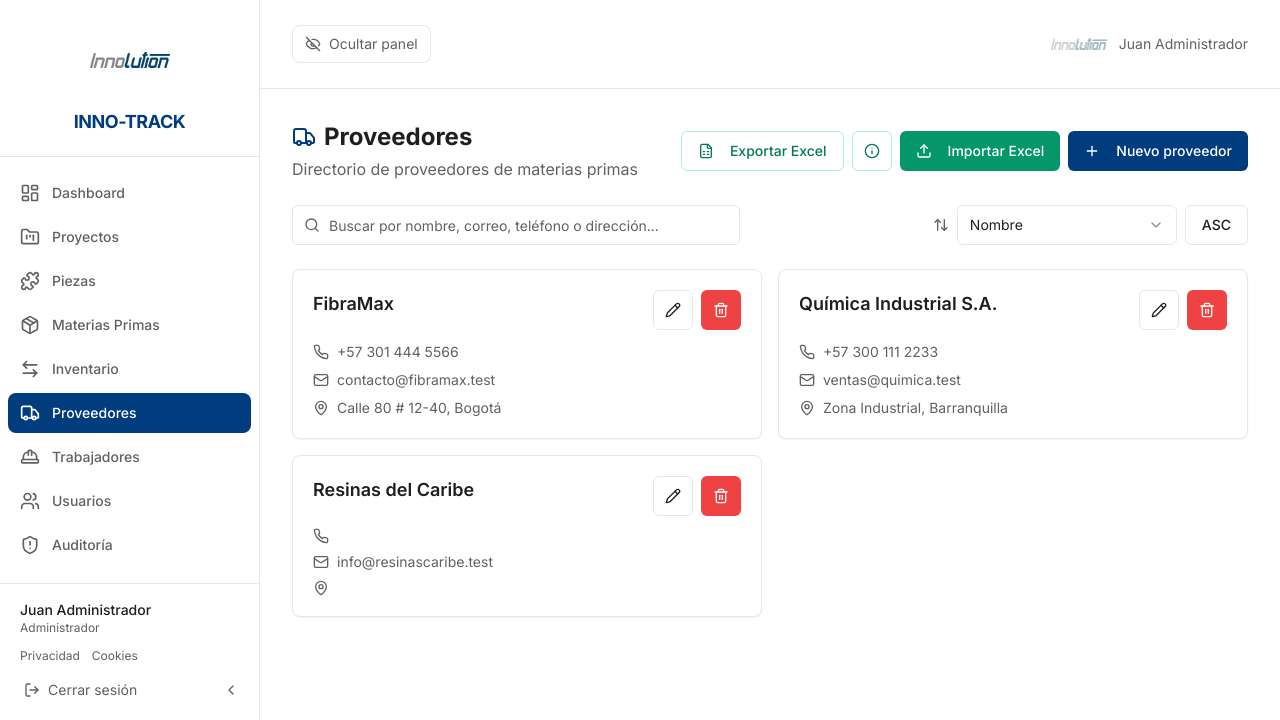
Test: Proveedores › filtra por cualquier dato de contacto y ordena
In the field with placeholder "Buscar por nombre, correo, teléfono o dirección...": [516, 225] box [292,205,740,245], type "bogotá"
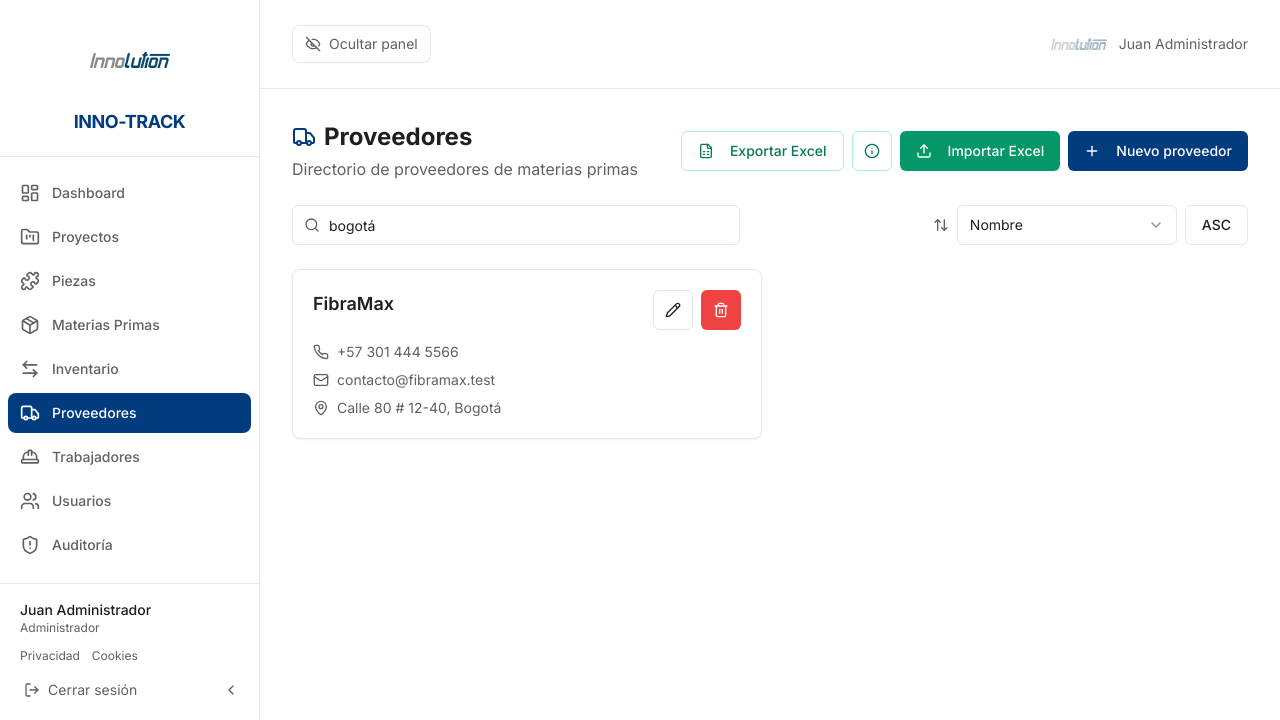
Replace the text in the field with placeholder "Buscar por nombre, correo, teléfono o dirección..." with "no existe": [516, 225] box [292,205,740,245]
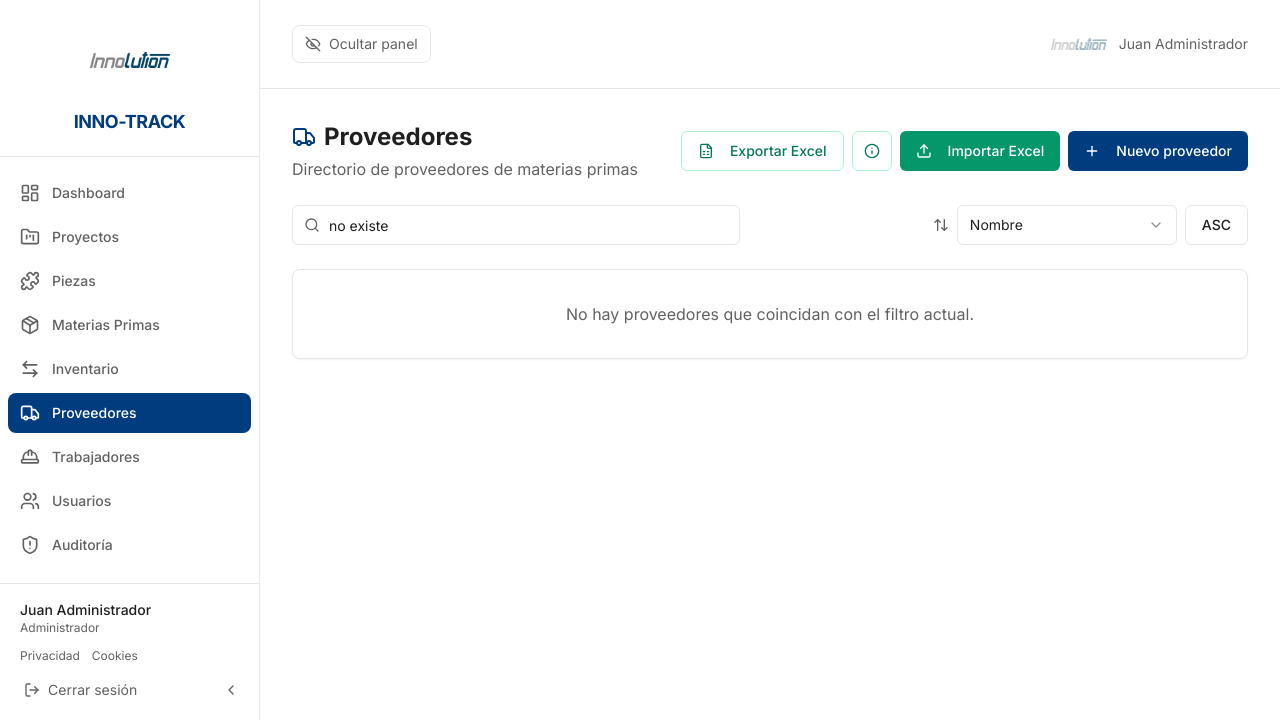
Expected: the text "No hay proveedores que coincidan con el filtro actual." is shown, [566,304,974,324]
Clear the field with placeholder "Buscar por nombre, correo, teléfono o dirección...": [516, 225] box [292,205,740,245]
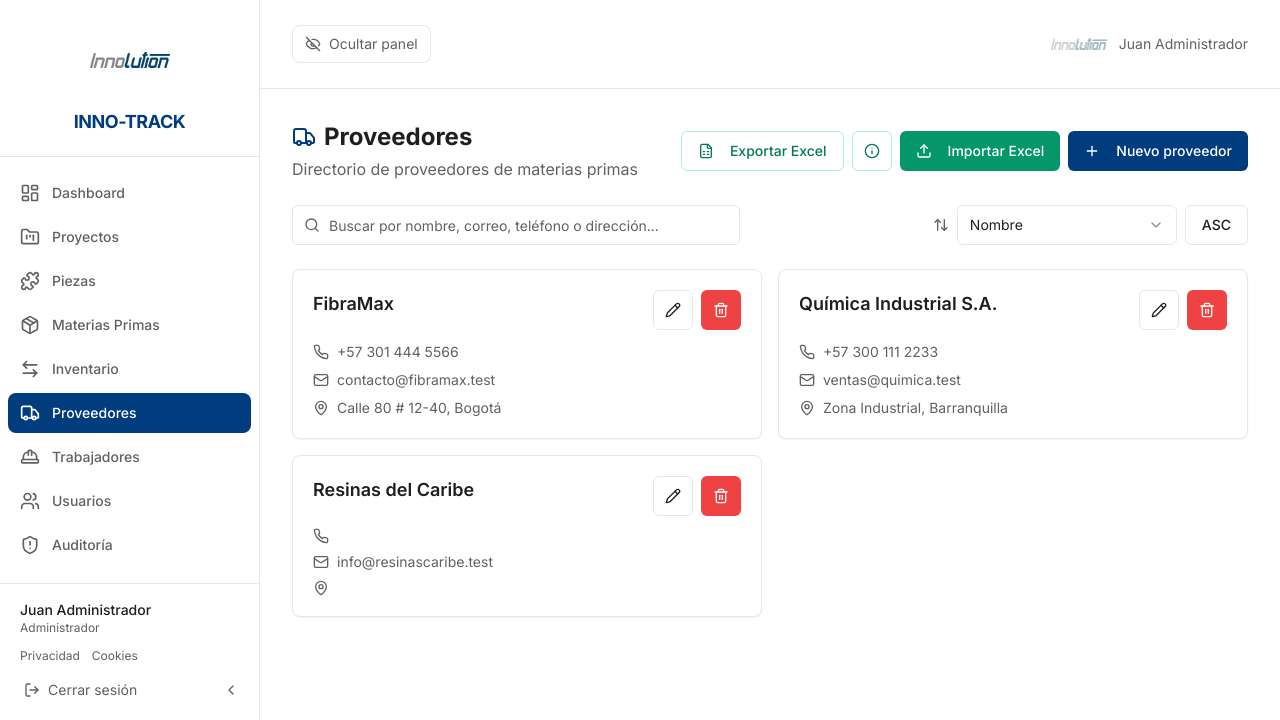
Click the button "ASC": [1216, 225] box [1185,205,1248,245]
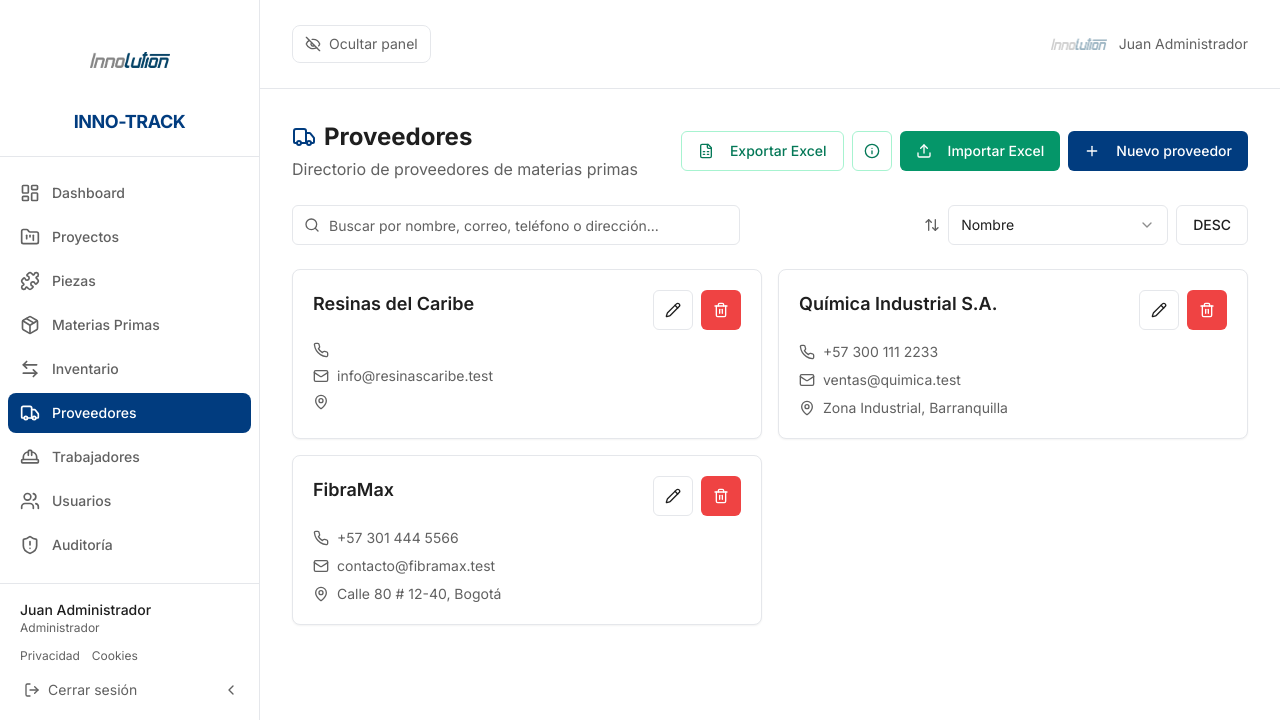
Press Enter in the dropdown, box [948,205,1168,245]
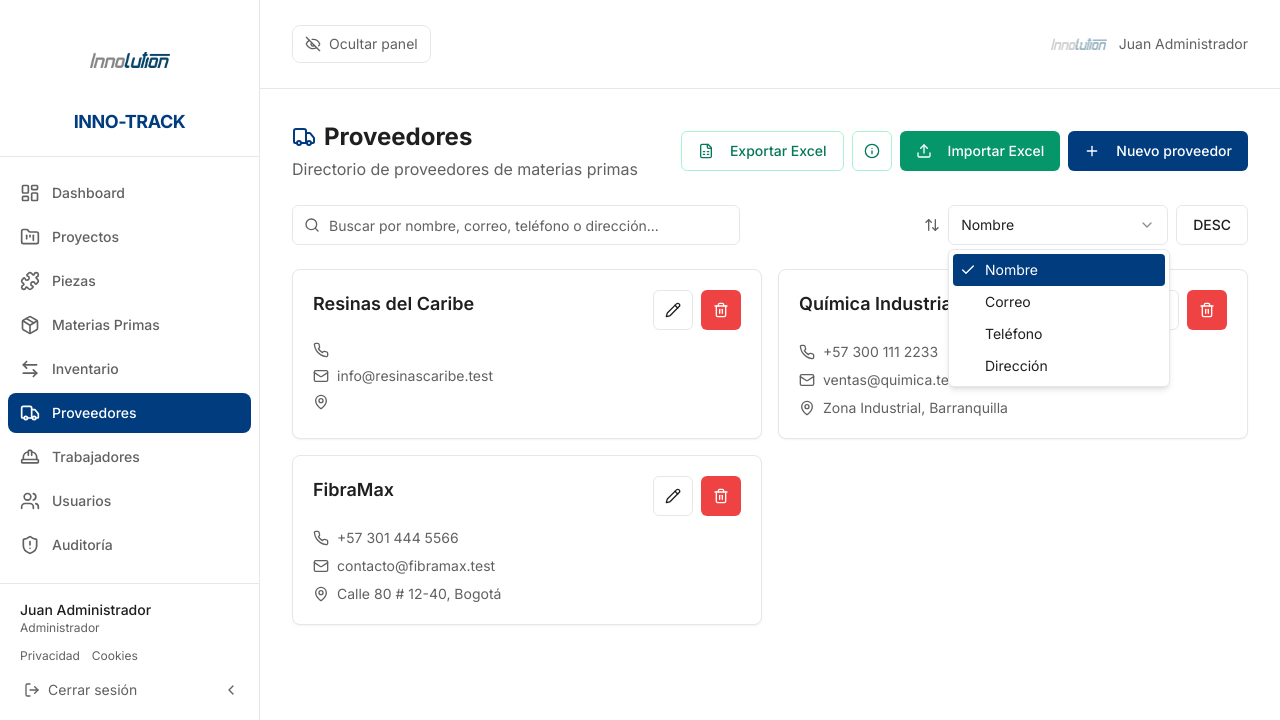
Click the option "Teléfono": [1014, 334] box [985,325,1042,342]
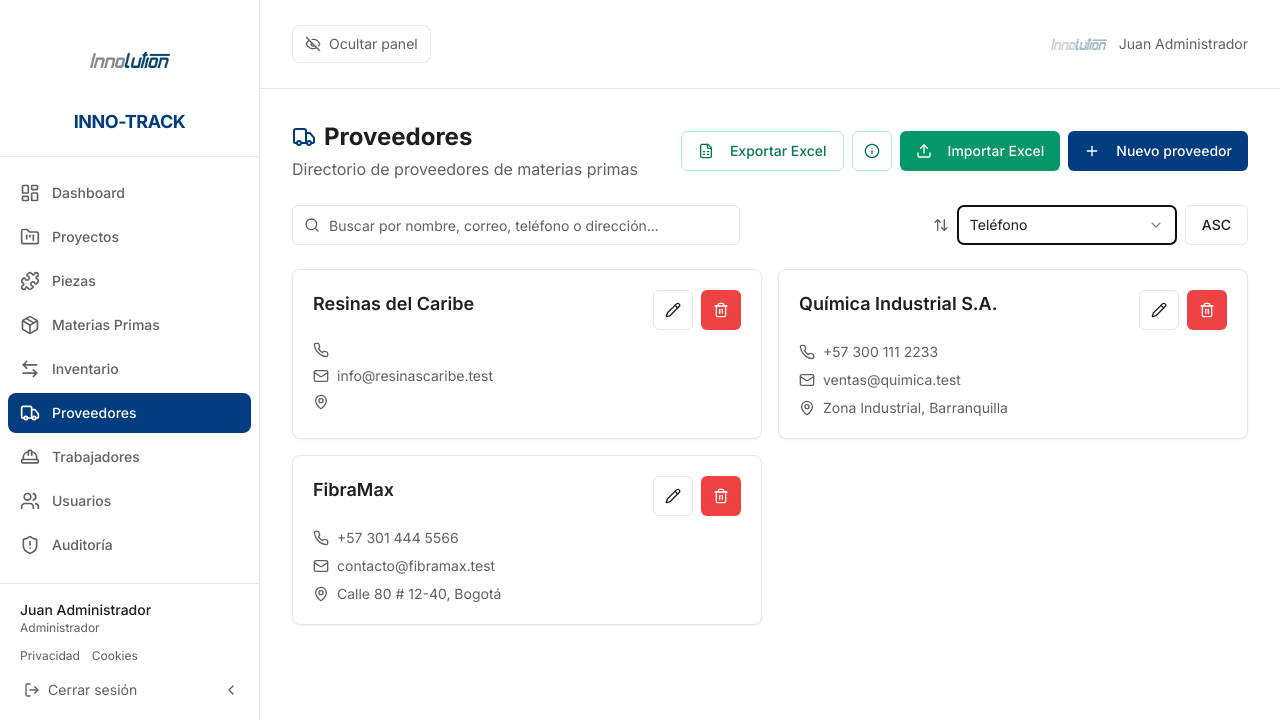
Expected: the button "ASC" is shown, [1185,205,1248,245]
